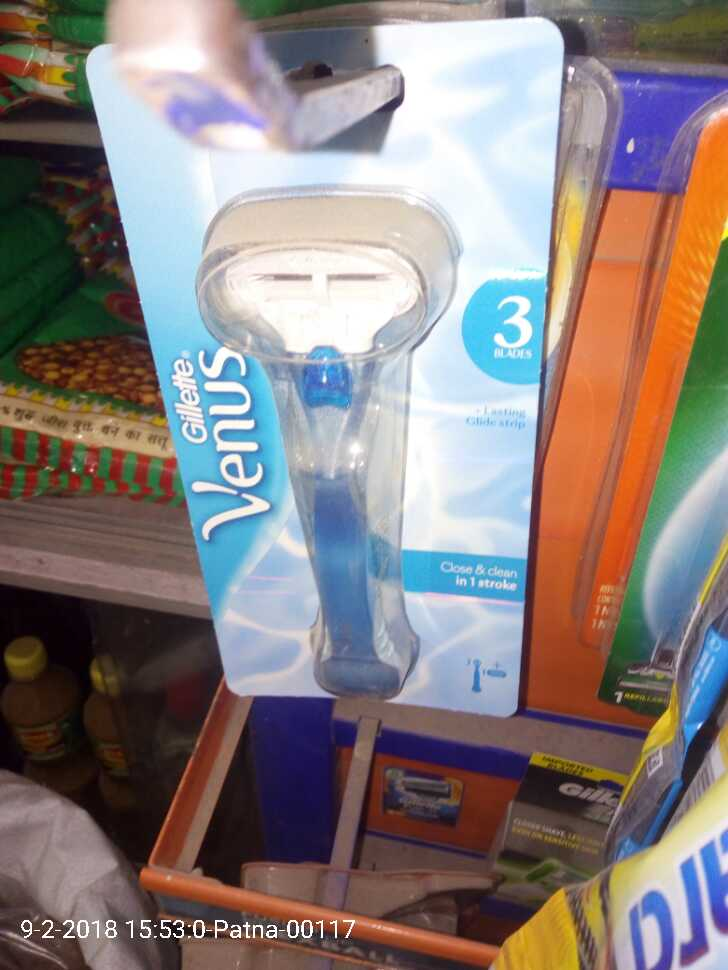venus: (114, 162, 538, 728)
